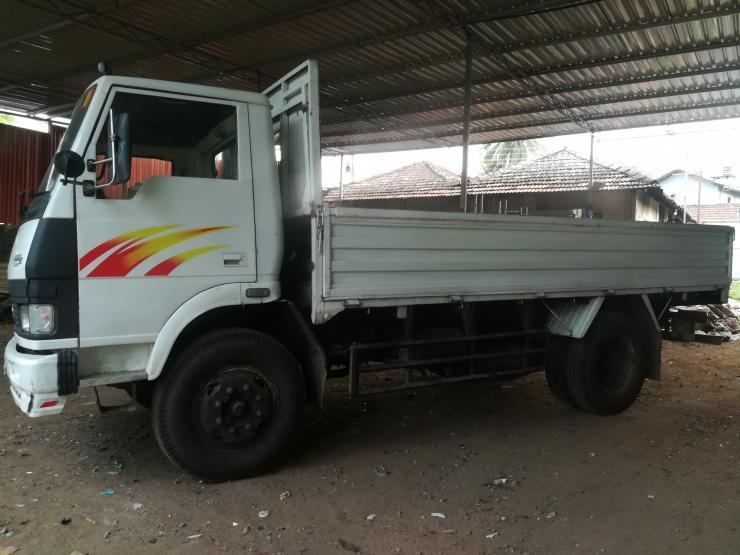truck: (3, 59, 734, 484)
